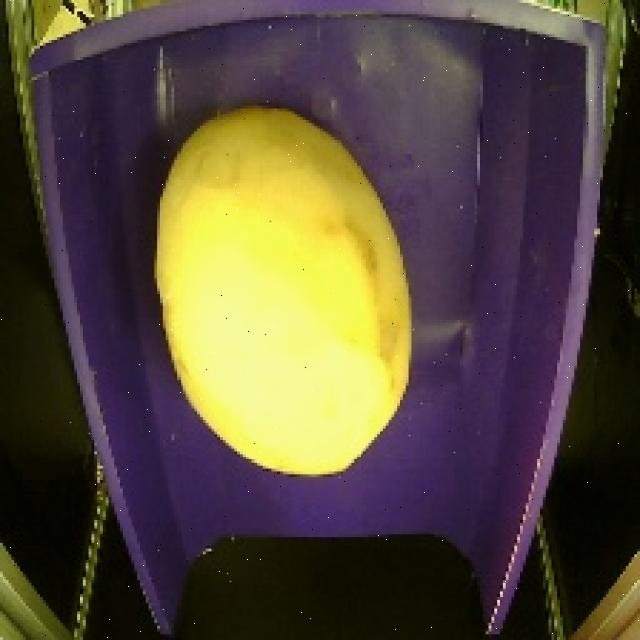full_potato: (127, 90, 440, 490)
